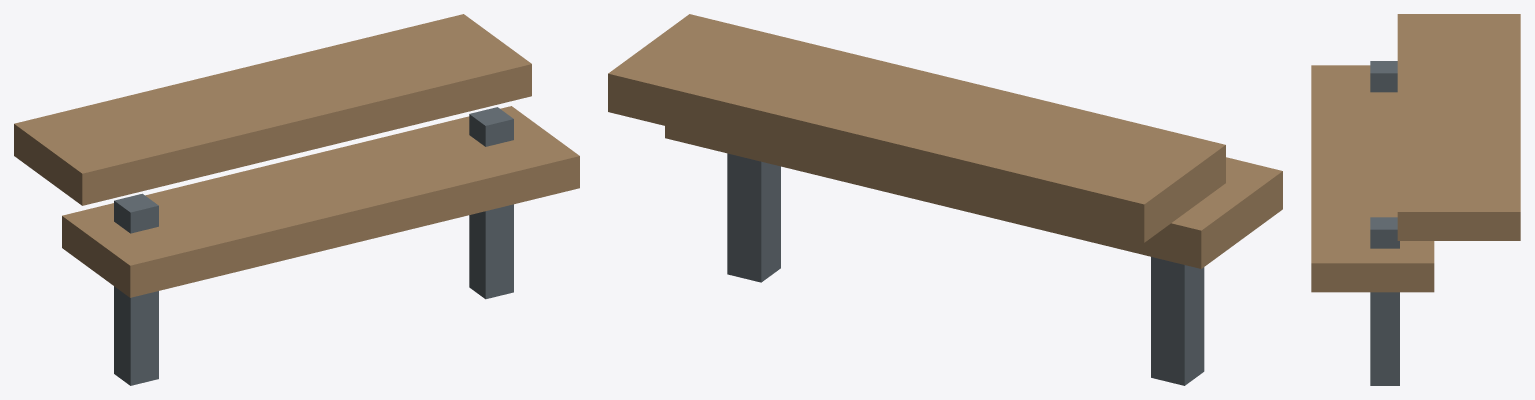
File: township_bench.glb
3 views of the same model, side by side, from view 1: azimuth 30°, elevation 25°; view 2: azimuth 150°, elevation 25°; view 3: azimuth 270°, elevation 25° (orthographic). The views are drawn at different scales.
Visible parts, largest first — view 1: part_1, part_0, part_2, part_3; view 2: part_1, part_0, part_3, part_2; view 3: part_1, part_0, part_3, part_2.
Part boxes in pixels (left/top/right/bottom): part_1: left=14, top=14, right=531, bottom=205; part_0: left=62, top=106, right=579, bottom=297; part_2: left=114, top=193, right=158, bottom=385; part_3: left=469, top=107, right=513, bottom=299; part_1: left=608, top=14, right=1225, bottom=242; part_0: left=665, top=126, right=1282, bottom=268; part_3: left=727, top=153, right=780, bottom=282; part_2: left=1151, top=257, right=1204, bottom=385; part_1: left=1397, top=14, right=1520, bottom=240; part_0: left=1311, top=65, right=1434, bottom=292; part_3: left=1370, top=217, right=1399, bottom=385; part_2: left=1370, top=61, right=1397, bottom=92.
Bounding box in the file's own units: 1.9 × 0.845 × 0.85.
